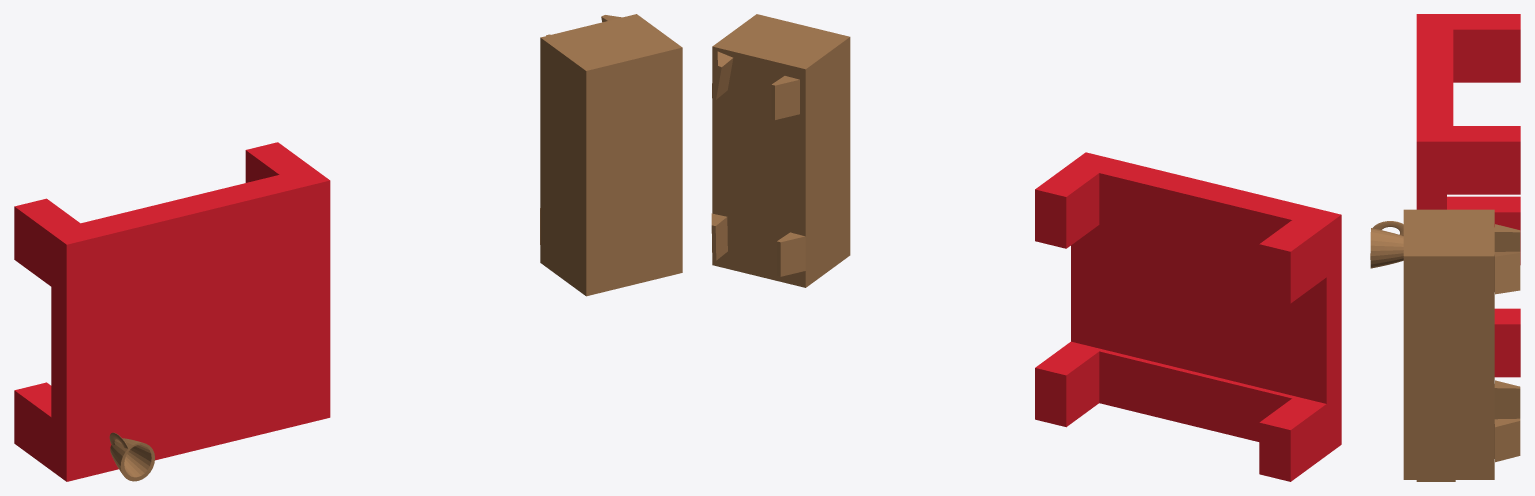
File: tinker.obj
The picture shows the model from 3 angles, left to right: view 1: azimuth 30°, elevation 25°; view 2: azimuth 150°, elevation 25°; view 3: azimuth 270°, elevation 25°; orthographic projection. The views are drawn at different scales.
Visible parts, largest first — view 1: group_0_15277357, group_0_11107152; view 2: group_0_15277357, group_0_11107152; view 3: group_0_11107152, group_0_15277357.
Part boxes in pixels (left/top/right/bottom): group_0_15277357: left=14, top=142, right=330, bottom=481; group_0_11107152: left=109, top=14, right=682, bottom=481; group_0_15277357: left=1035, top=152, right=1341, bottom=481; group_0_11107152: left=711, top=14, right=850, bottom=287; group_0_11107152: left=1370, top=209, right=1520, bottom=481; group_0_15277357: left=1416, top=14, right=1520, bottom=377.
Bounding box in the file's own units: 108 × 49 × 23.09.
